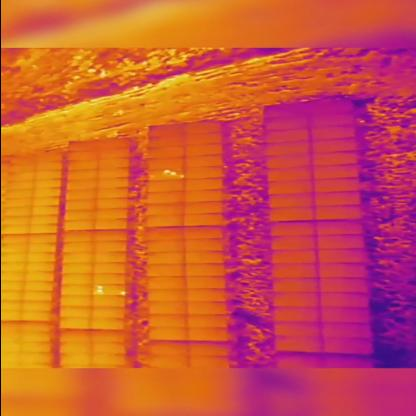panel: (90, 293, 126, 311), (91, 249, 129, 266), (90, 271, 127, 288), (89, 305, 126, 321), (90, 260, 127, 276), (90, 229, 129, 244), (91, 239, 129, 254), (89, 317, 126, 332), (90, 282, 127, 297), (56, 315, 93, 330), (59, 260, 93, 276), (57, 292, 93, 307), (57, 283, 93, 298), (58, 304, 93, 319), (60, 250, 95, 264), (61, 240, 94, 254), (59, 272, 94, 285), (61, 230, 95, 243)
